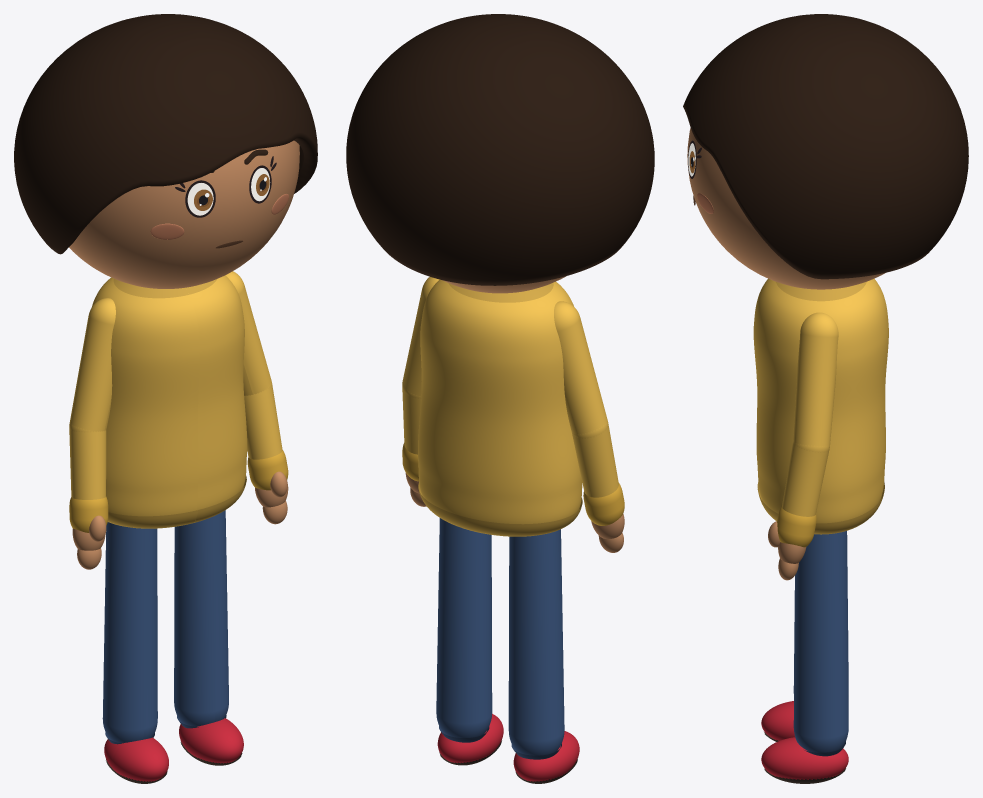
Rendered from figurant_a.glb.
3 renders of one model, left to right at view 1: azimuth 30°, elevation 25°; view 2: azimuth 150°, elevation 25°; view 3: azimuth 270°, elevation 25°, orthographic.
Parts seen in each view (by area): view 1: figurant_a_haar, figurant_a_romp, figurant_a_hoofd, figurant_a_been_R, figurant_a_been_L, figurant_a_bovenarm_R, figurant_a_onderarm_R, figurant_a_schoen_R, figurant_a_onderarm_L, figurant_a_schoen_L, figurant_a_bovenarm_L, figurant_a_romp_boord (+3 smaller); view 2: figurant_a_haar, figurant_a_romp, figurant_a_been_R, figurant_a_been_L, figurant_a_bovenarm_R, figurant_a_onderarm_R, figurant_a_romp_boord, figurant_a_schoen_R, figurant_a_schoen_L, figurant_a_bovenarm_L, figurant_a_manchet_R, figurant_a_romp_halsboord (+2 smaller); view 3: figurant_a_haar, figurant_a_romp, figurant_a_been_L, figurant_a_hoofd, figurant_a_bovenarm_L, figurant_a_schoen_L, figurant_a_onderarm_L, figurant_a_manchet_L, figurant_a_schoen_R, figurant_a_romp_halsboord, figurant_a_romp_boord.
Part boxes in pixels (x1,y1,x2,y2): figurant_a_haar: (14, 14, 317, 254); figurant_a_romp: (92, 275, 247, 520); figurant_a_hoofd: (69, 140, 299, 288); figurant_a_been_R: (102, 522, 157, 743); figurant_a_been_L: (174, 510, 228, 726); figurant_a_bovenarm_R: (69, 298, 115, 431); figurant_a_onderarm_R: (69, 425, 106, 499); figurant_a_schoen_R: (104, 737, 168, 781); figurant_a_onderarm_L: (244, 385, 282, 459); figurant_a_schoen_L: (179, 718, 243, 763); figurant_a_bovenarm_L: (225, 271, 271, 395); figurant_a_romp_boord: (108, 476, 246, 528); figurant_a_haar: (346, 14, 654, 285); figurant_a_romp: (418, 279, 582, 524); figurant_a_been_R: (508, 529, 564, 755); figurant_a_been_L: (436, 518, 492, 737); figurant_a_bovenarm_R: (554, 301, 607, 437); figurant_a_onderarm_R: (572, 424, 618, 497); figurant_a_romp_boord: (418, 482, 582, 536); figurant_a_schoen_R: (513, 731, 579, 781); figurant_a_schoen_L: (437, 713, 503, 763); figurant_a_bovenarm_L: (402, 277, 439, 397); figurant_a_manchet_R: (583, 483, 624, 525); figurant_a_romp_halsboord: (448, 283, 553, 302); figurant_a_haar: (683, 14, 968, 279); figurant_a_romp: (753, 278, 888, 523); figurant_a_been_L: (793, 531, 848, 752); figurant_a_hoofd: (687, 128, 885, 289); figurant_a_bovenarm_L: (793, 312, 838, 452); figurant_a_schoen_L: (761, 737, 848, 779); figurant_a_onderarm_L: (782, 442, 829, 516); figurant_a_manchet_L: (777, 506, 816, 547); figurant_a_schoen_R: (761, 701, 794, 740); figurant_a_romp_halsboord: (776, 281, 866, 301); figurant_a_romp_boord: (757, 481, 884, 534).
Bounding box in the file's own units: 0.6657 × 1.76 × 0.6211.
